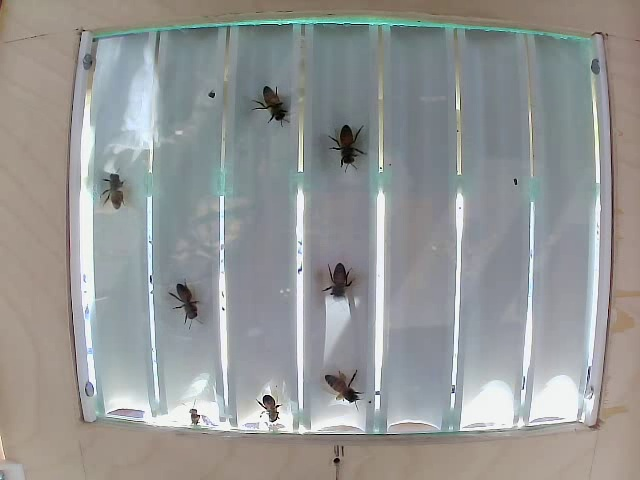bee: (159, 282, 214, 331), (315, 257, 364, 306), (317, 360, 373, 401), (99, 169, 142, 214), (251, 82, 292, 124), (331, 123, 364, 174)
